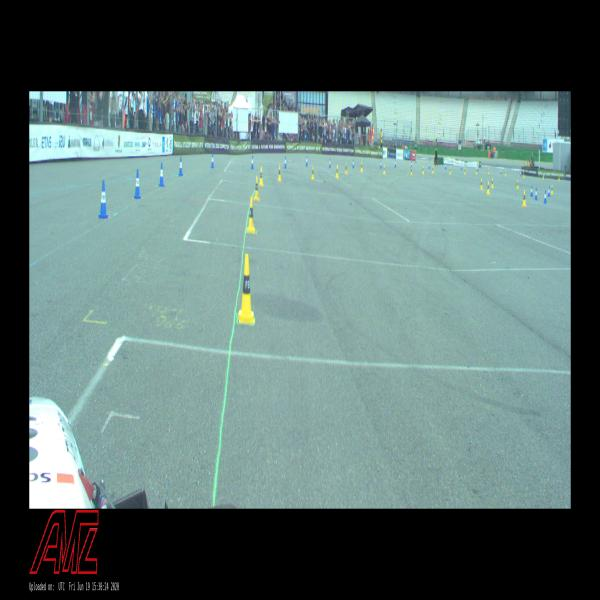blue_cone: (98, 180, 108, 218), (134, 169, 141, 199), (159, 163, 164, 187), (178, 156, 183, 176), (210, 153, 215, 168), (534, 189, 538, 200), (251, 155, 254, 169), (284, 156, 287, 169), (530, 185, 533, 197), (305, 156, 308, 166), (544, 190, 546, 203), (394, 160, 397, 168), (548, 186, 550, 197), (329, 157, 331, 168), (352, 159, 354, 168), (380, 160, 382, 168)
yellow_cone: (238, 254, 255, 324), (247, 196, 256, 234), (254, 176, 260, 201), (260, 166, 264, 186), (278, 164, 282, 182), (522, 191, 526, 206), (311, 166, 314, 180), (480, 177, 483, 190), (360, 161, 363, 172), (491, 178, 494, 188), (487, 180, 489, 194), (336, 164, 338, 178), (551, 184, 553, 195), (345, 163, 347, 174), (383, 164, 385, 174), (516, 180, 518, 189), (422, 166, 424, 174), (410, 167, 412, 175), (449, 166, 451, 174), (432, 166, 434, 173), (464, 167, 466, 174), (487, 167, 489, 174)
